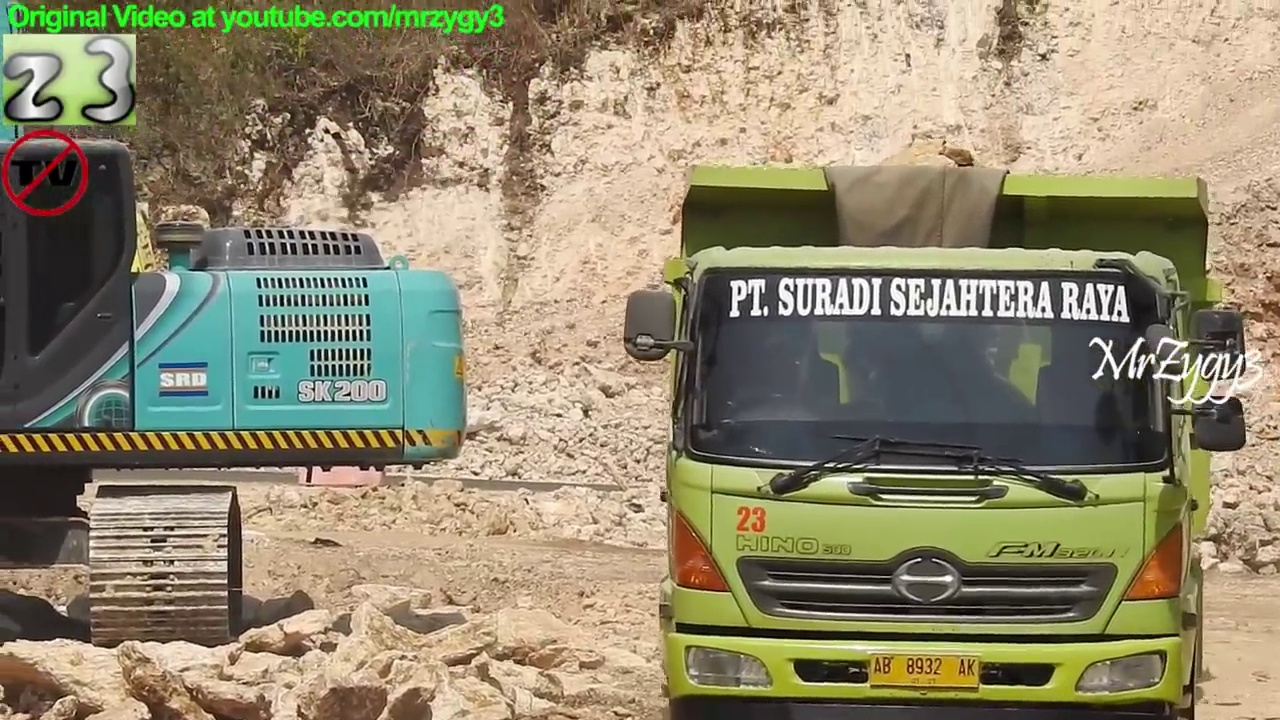excavator: (1, 3, 471, 655)
truck: (620, 148, 1252, 720)
